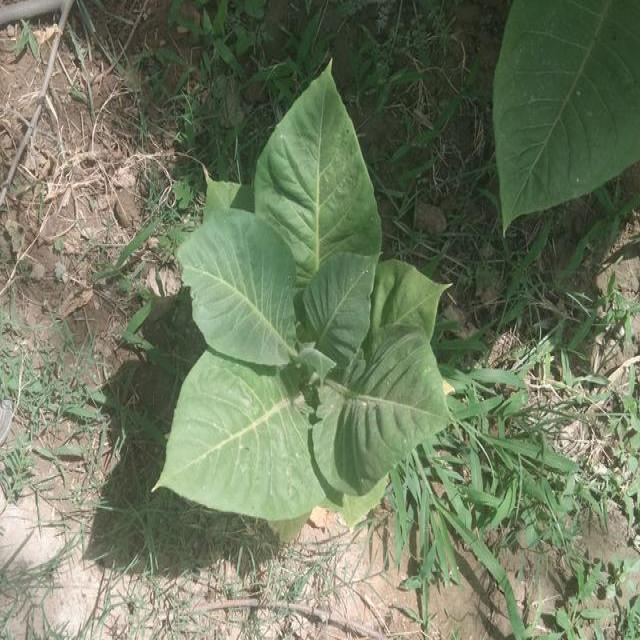crop: (146, 57, 461, 536)
